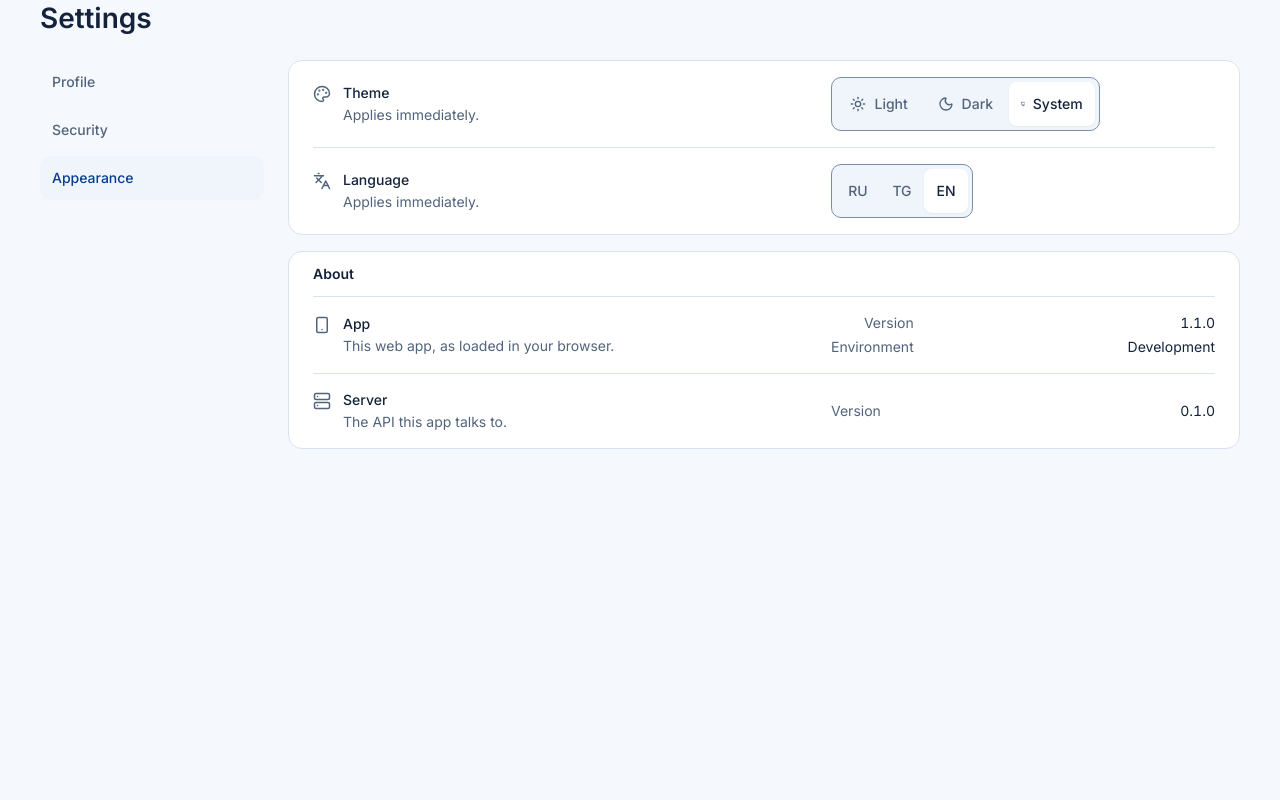
Test: Appearance section › applies the theme and language immediately without a save bar
Click the radio button labelled "Dark": x=965, y=104 [922,82,1009,126]
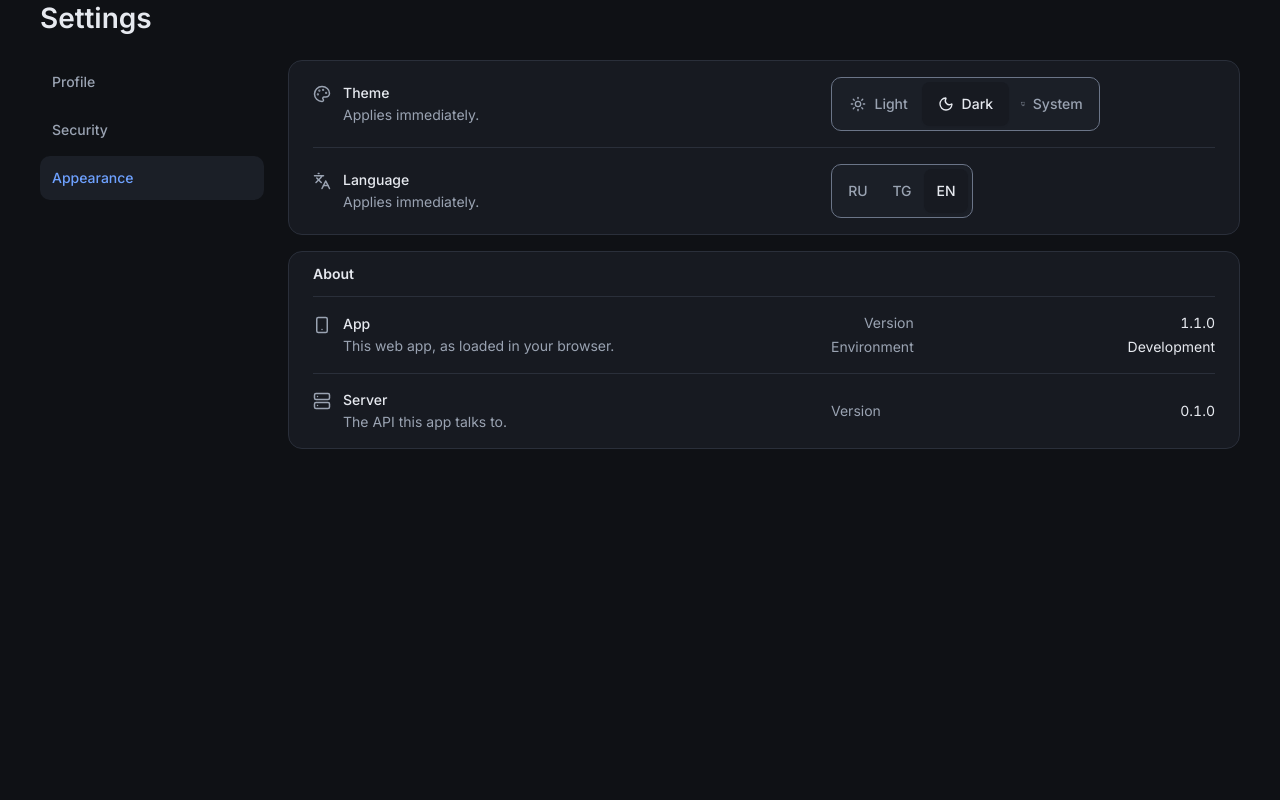
Click the radio button labelled "RU": x=858, y=191 [836,169,880,213]
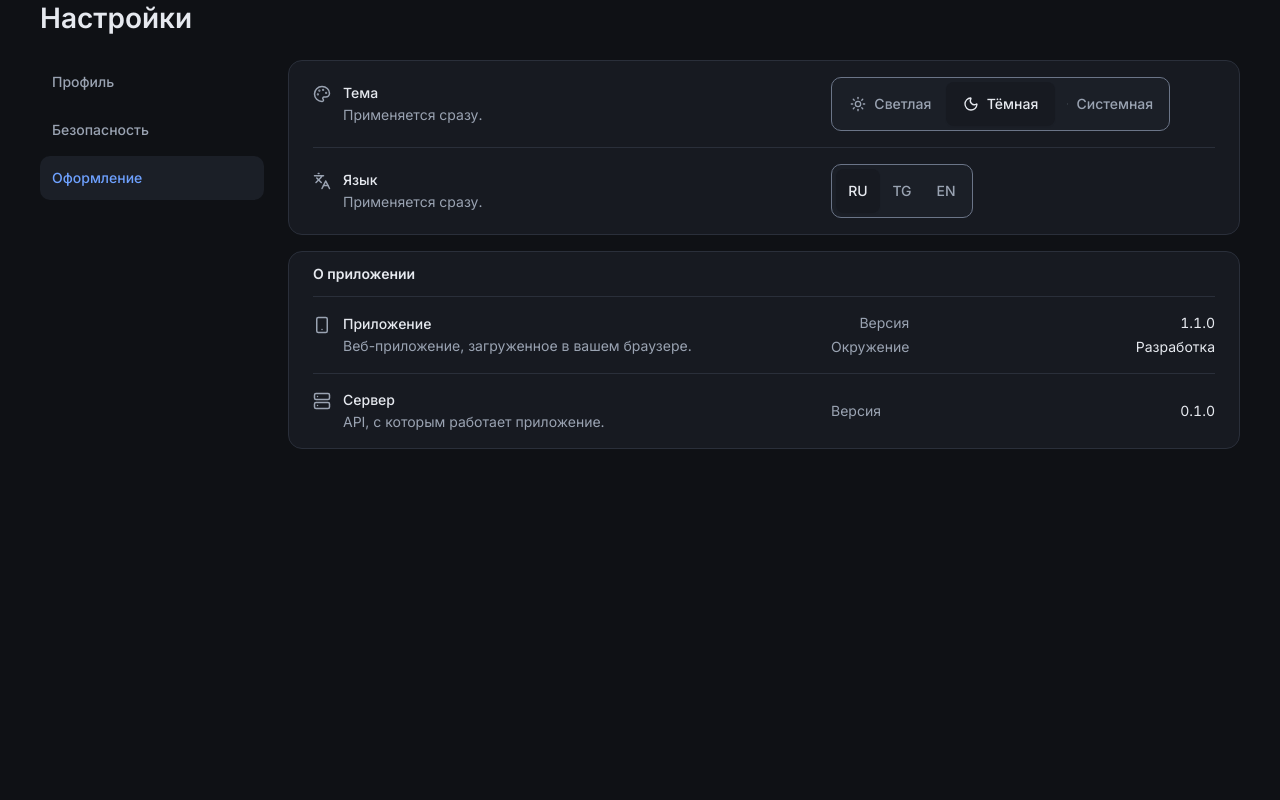
Result: the element named "Тема" is shown at [831,77,1170,131]
